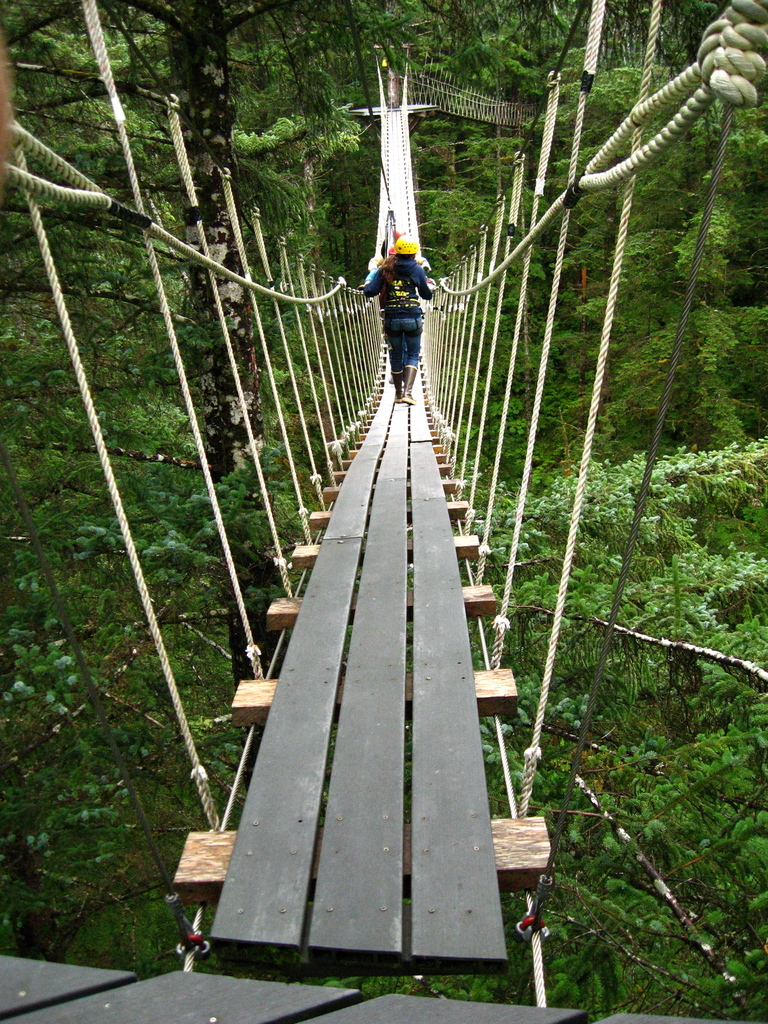person: (355, 228, 435, 404)
